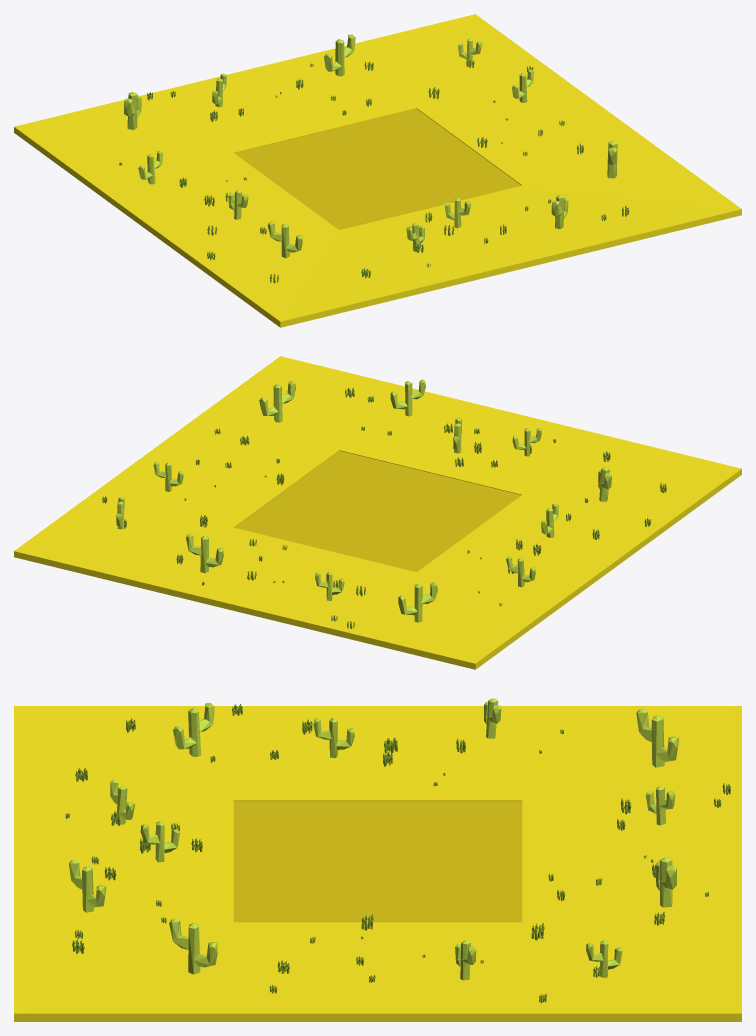
Rendered from Map4.fbx.
3 renders of one model, top to bottom at view 1: azimuth 30°, elevation 25°; view 2: azimuth 150°, elevation 25°; view 3: azimuth 270°, elevation 25°, orthographic. The views are drawn at different scales.
Parts seen in each view (by area): view 1: Cube.001, Cube, Cylinder.007, Cylinder.005, Cylinder.011; view 2: Cube.001, Cube, Cylinder.011, Cylinder.001, Cylinder.007, Cylinder.002; view 3: Cube.001, Cube, Cylinder.001, Cylinder.011, Cylinder.005, Cylinder.002, Cylinder.007, Cylinder, Cylinder.003, Cylinder.009, Cylinder.008, Cylinder.004 (+2 smaller).
Part boxes in pixels (x1,y1,x2,y2): Cube.001: (14,14,741,327); Cube: (234,109,521,229); Cylinder.007: (324,34,355,76); Cylinder.005: (267,221,302,258); Cylinder.011: (124,92,141,129); Cube.001: (14,356,741,669); Cube: (234,451,521,571); Cylinder.011: (398,582,437,622); Cylinder.001: (259,381,295,422); Cylinder.007: (186,533,223,573); Cylinder.002: (390,379,425,416); Cube.001: (14,706,741,1021); Cube: (233,801,522,922); Cylinder.001: (169,918,217,974); Cylinder.011: (636,709,678,767); Cylinder.005: (173,702,214,756); Cylinder.002: (69,860,106,912); Cylinder.007: (655,857,676,907); Cylinder: (140,821,180,862); Cylinder.003: (313,718,354,758); Cylinder.009: (645,786,675,825); Cylinder.008: (586,940,622,977); Cylinder.004: (110,780,134,824).
Size of the model in its own units: 75.63 by 6.6 by 75.63.
